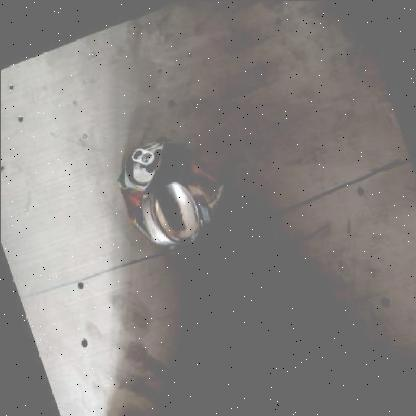Can: (95, 127, 232, 262)
